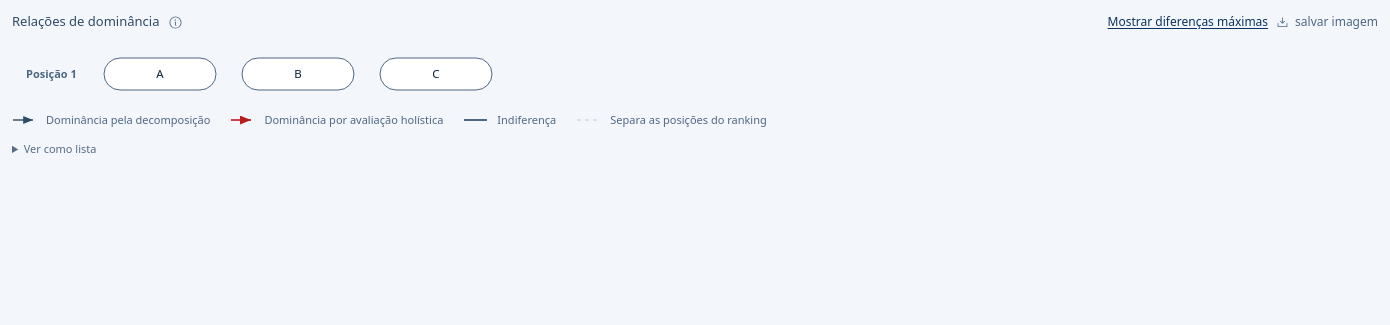
Scenario: DiagramaHasse › diferenças máximas: matriz por posição, com a maior destacada
Click the button "Mostrar diferenças máximas" at (1188, 22), box 1108,13 -> 1268,31
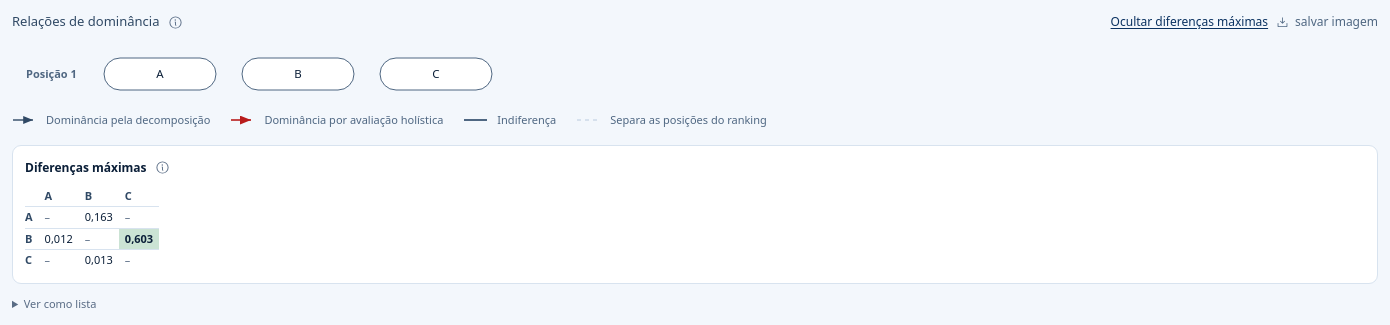
expect the 1st text "–" is shown: met, box 39,206 -> 79,228
expect the text "0,012" is shown: met, box 39,228 -> 79,250
